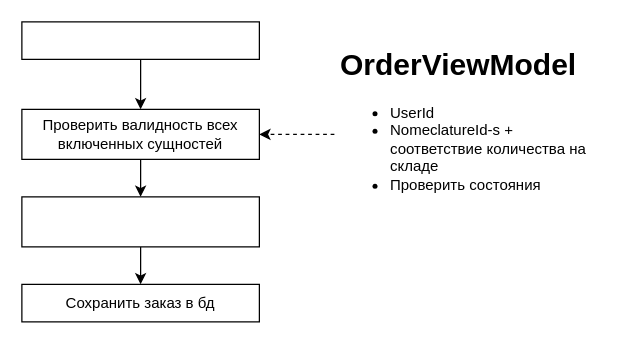
This 631x344 diagram has some shape labels left out. Here are the shapes that lost their labels. From the top down, the centre of each, then its label:
At point (140, 40): "POST <host>/orders/accept [OrderViewModel]".
At point (140, 221): "Провести операцию списывания с количества номенклатуры".
